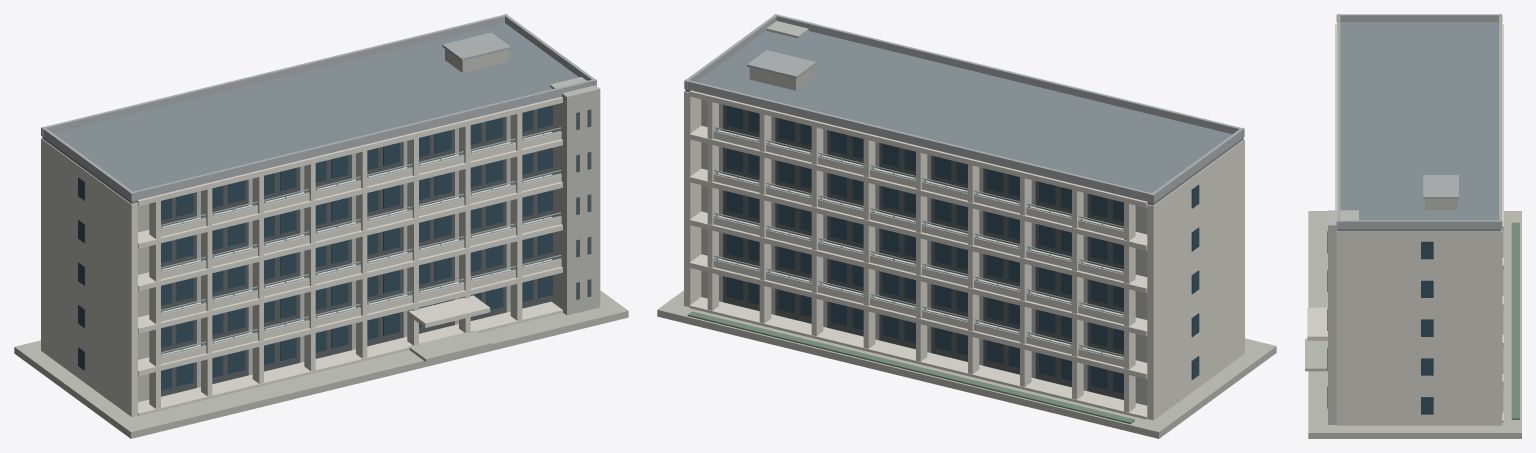
3 views of the same model, side by side, from view 1: azimuth 30°, elevation 25°; view 2: azimuth 150°, elevation 25°; view 3: azimuth 270°, elevation 25° (orthographic). The views are drawn at different scales.
Size of the model in its own units: 37.4 by 17.1 by 15.43.
